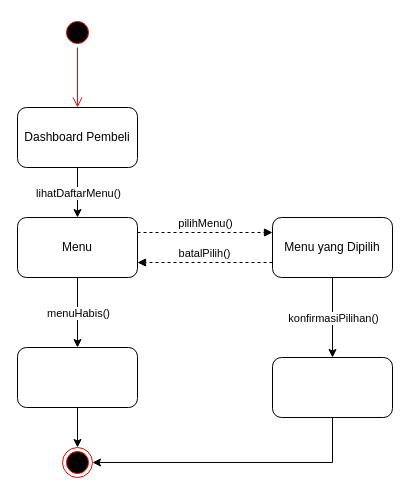
Image size: 410x495. Some labels were removed from this diagram. Here are the shapes that lost their labels. From the top down, the box of each, then its label:
(16, 346, 138, 408): Menu tidak tersedia
(272, 356, 392, 418): Menu yang Dikonfirmasi
